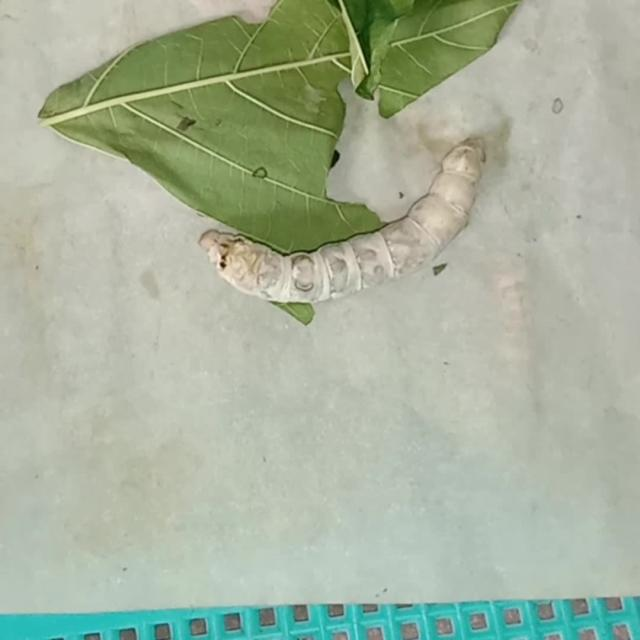Grasserie: (198, 118, 502, 310)
